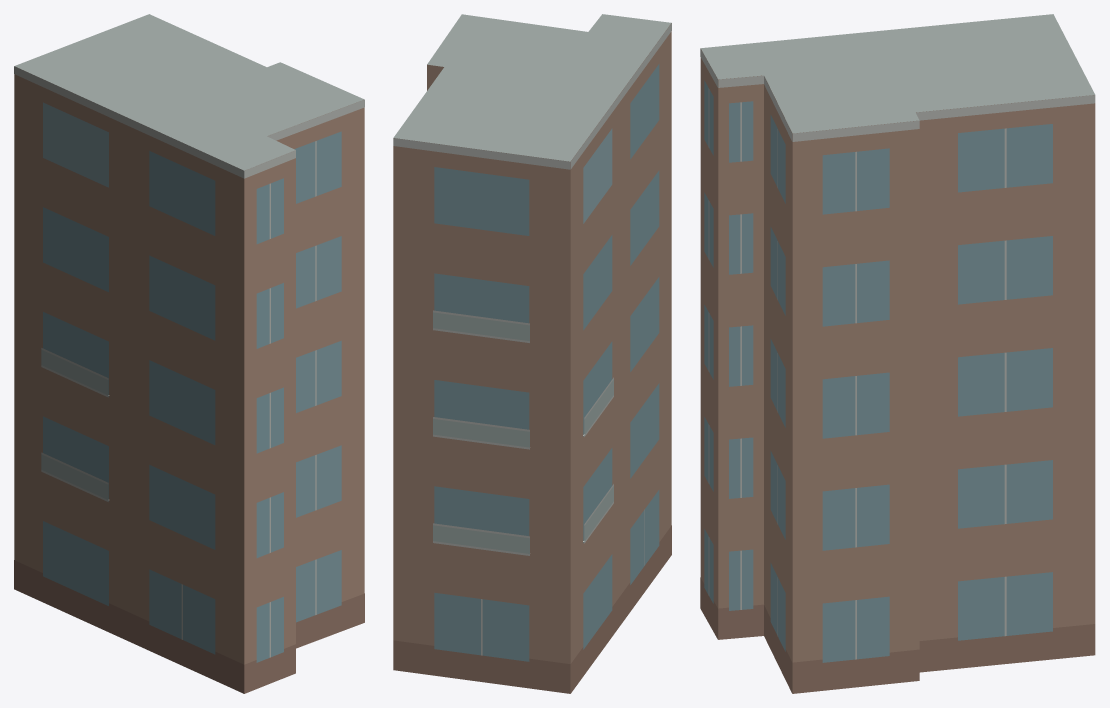
Rendered from survey-upis-32989187.glb.
3 views of the same model, side by side, from view 1: azimuth 30°, elevation 25°; view 2: azimuth 150°, elevation 25°; view 3: azimuth 270°, elevation 25° (orthographic). The views are drawn at different scales.
Visible parts, largest first — view 1: survey-upis-32989187.tmp; view 2: survey-upis-32989187.tmp; view 3: survey-upis-32989187.tmp.
Part boxes in pixels (x1,y1,x2,y2): survey-upis-32989187.tmp: (14,14,364,693); survey-upis-32989187.tmp: (393,14,671,693); survey-upis-32989187.tmp: (700,14,1095,693).
Bounding box in the file's own units: 7.35 × 16.05 × 10.26.
